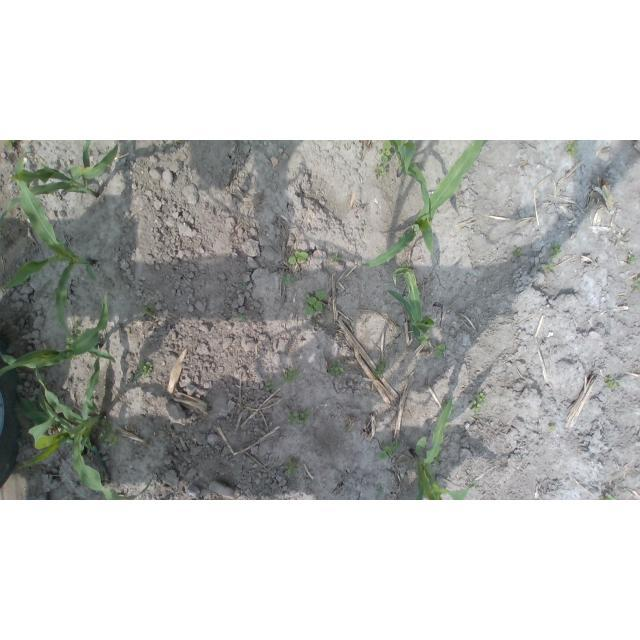Maize: (13, 357, 154, 500), (4, 152, 100, 343), (359, 140, 485, 266), (0, 289, 116, 379), (0, 141, 118, 228), (410, 401, 485, 500), (386, 267, 435, 345), (389, 141, 417, 176)
Weeds: (304, 290, 324, 316), (100, 430, 123, 447), (135, 361, 154, 380), (379, 441, 398, 460), (289, 411, 310, 426), (379, 140, 392, 164), (288, 251, 308, 266), (471, 392, 486, 412), (605, 376, 623, 391), (282, 367, 298, 383), (330, 360, 345, 377), (566, 140, 579, 157), (285, 460, 299, 475), (281, 274, 296, 287), (375, 362, 386, 379), (551, 242, 562, 258), (434, 343, 446, 357), (442, 400, 454, 413), (103, 417, 114, 430), (601, 492, 618, 500), (376, 166, 387, 178), (265, 382, 276, 393), (513, 246, 523, 257), (4, 140, 16, 149), (71, 323, 80, 334), (633, 277, 640, 291), (142, 307, 155, 314), (238, 313, 247, 323), (544, 263, 554, 272), (332, 253, 341, 262), (420, 335, 428, 345), (627, 258, 637, 265), (548, 423, 556, 431), (238, 283, 247, 289), (345, 427, 351, 434), (362, 222, 367, 227), (176, 140, 181, 144)
